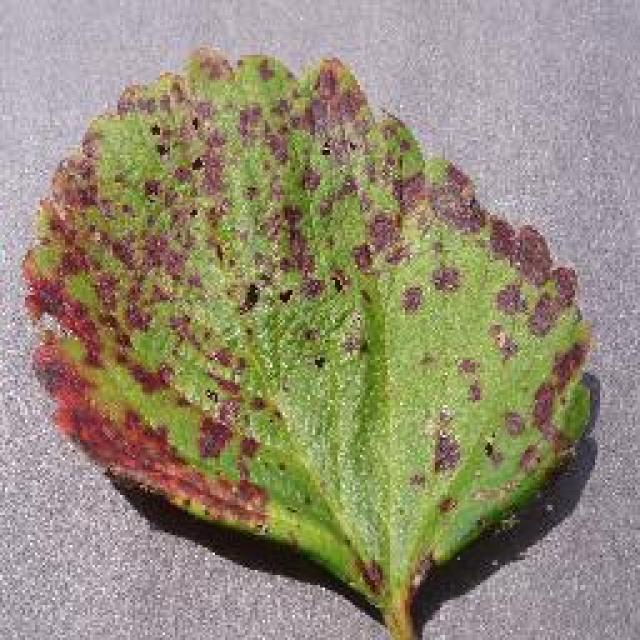Strawberry leaf scorch: (90, 130, 452, 487)
